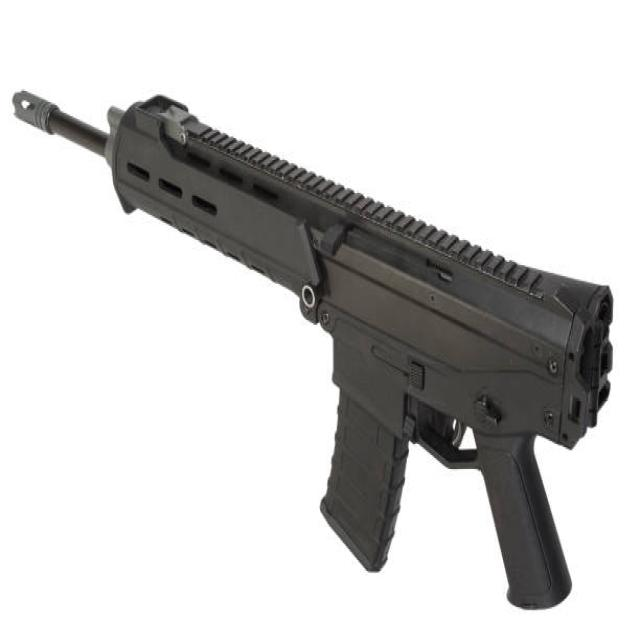rifle: (8, 52, 623, 633)
